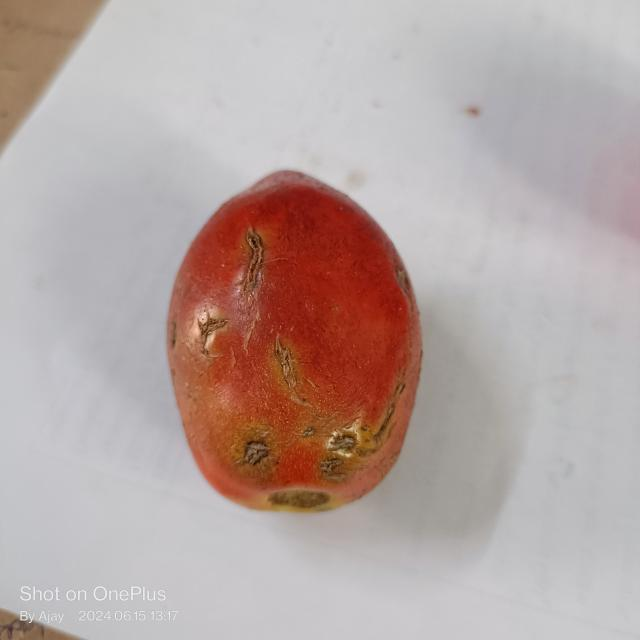Bacterial_Spot: (323, 424, 359, 482), (375, 378, 406, 441), (272, 334, 298, 390), (244, 223, 263, 285), (198, 312, 225, 353), (243, 440, 270, 464), (300, 426, 316, 438)
